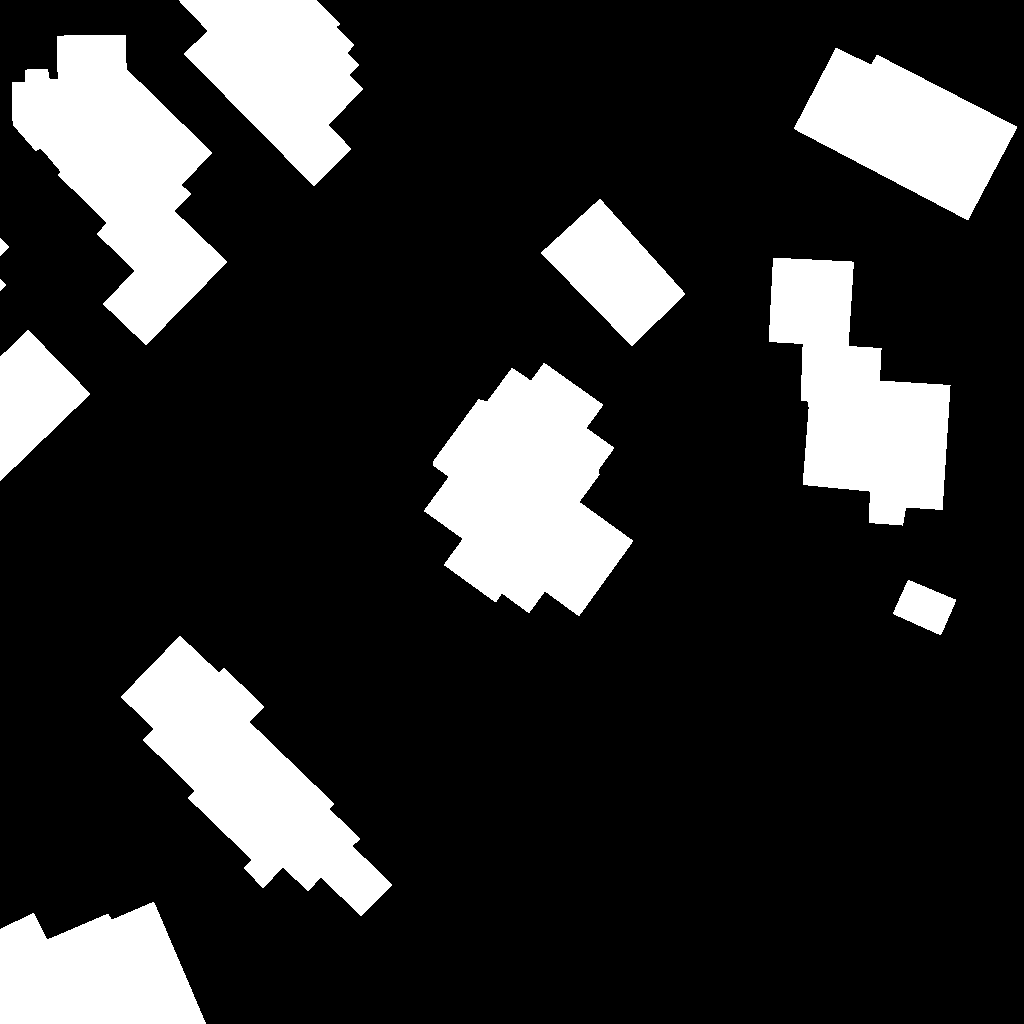building: (121, 636, 393, 917), (12, 35, 228, 346), (424, 363, 634, 617), (769, 258, 951, 526), (794, 48, 1018, 221), (178, 0, 364, 187), (0, 902, 207, 1024), (541, 199, 686, 347), (0, 330, 91, 482), (893, 580, 957, 636), (0, 238, 10, 292)
